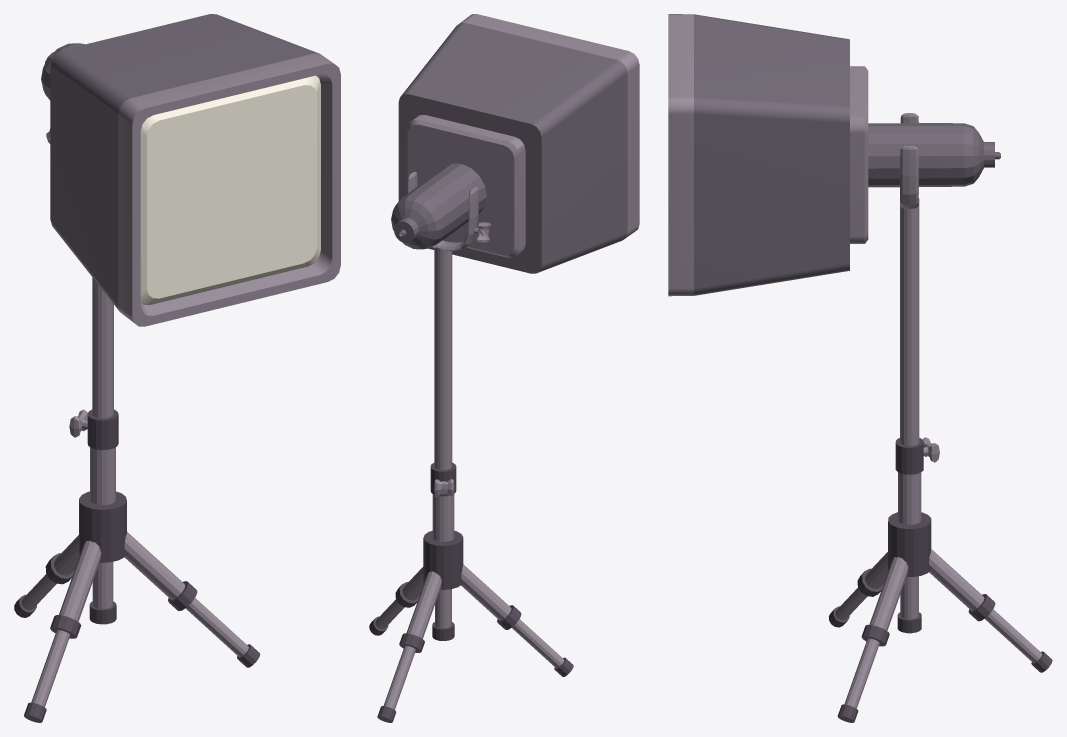
Rendered from PhotoShoot_Light_02.fbx.
3 views of the same model, side by side, from view 1: azimuth 30°, elevation 25°; view 2: azimuth 150°, elevation 25°; view 3: azimuth 270°, elevation 25° (orthographic). The views are drawn at different scales.
Visible parts, largest first — view 1: pCube1, Stand_02; view 2: pCube1, Stand_02, polySurface97; view 3: pCube1, Stand_02, polySurface97.
Boxes of the visible parts, left/top/right/bottom form: pCube1: left=50, top=14, right=340, bottom=326; Stand_02: left=14, top=129, right=260, bottom=722; pCube1: left=398, top=14, right=639, bottom=273; Stand_02: left=369, top=172, right=573, bottom=722; polySurface97: left=391, top=163, right=486, bottom=249; pCube1: left=668, top=14, right=868, bottom=296; Stand_02: left=829, top=113, right=1052, bottom=722; polySurface97: left=868, top=123, right=1000, bottom=187.
Bounding box in the file's own units: 39.14 × 107 × 60.07.
1 material, 1 textured.
